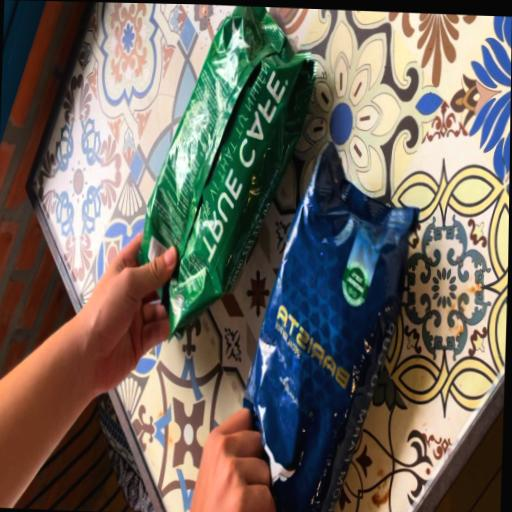cafe_hat: (244, 143, 418, 512)
cafe_xay: (140, 5, 315, 333)
